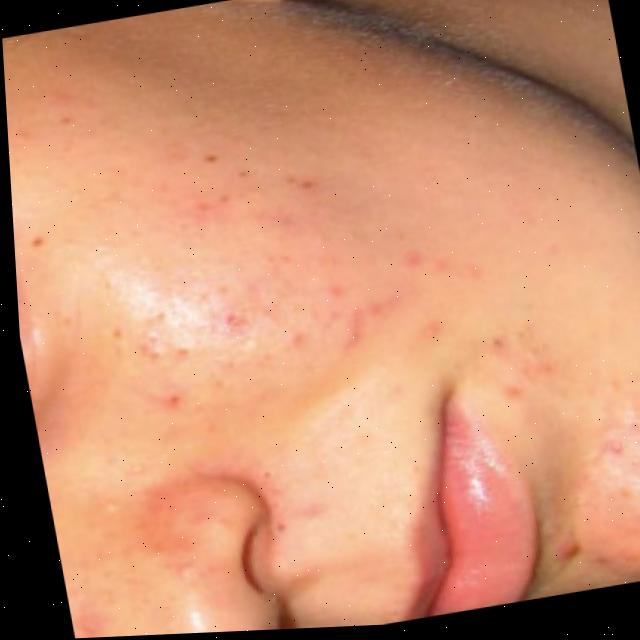Acne: (3, 22, 574, 487), (529, 397, 640, 594)
